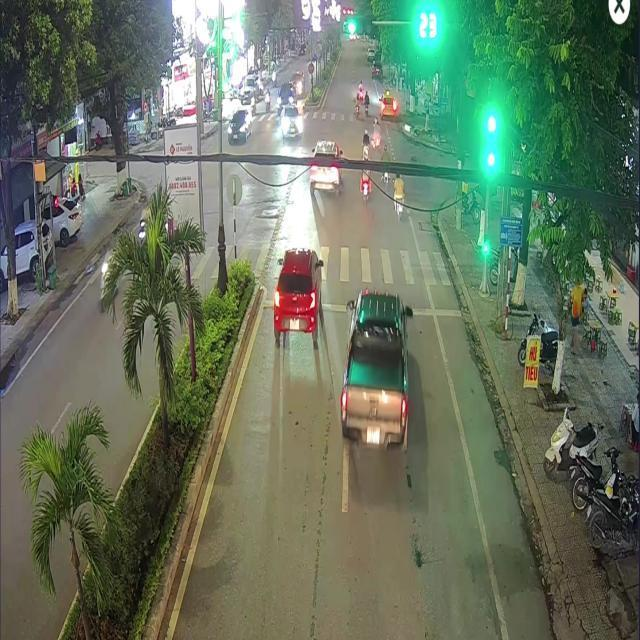car: (339, 288, 411, 445), (273, 247, 322, 345), (308, 140, 341, 190), (379, 90, 397, 117)
green_light: (346, 15, 373, 36), (486, 132, 495, 168), (483, 233, 487, 251)
motobike: (360, 178, 370, 201), (394, 197, 403, 219), (381, 169, 389, 188)
stop_line: (263, 299, 460, 315)
